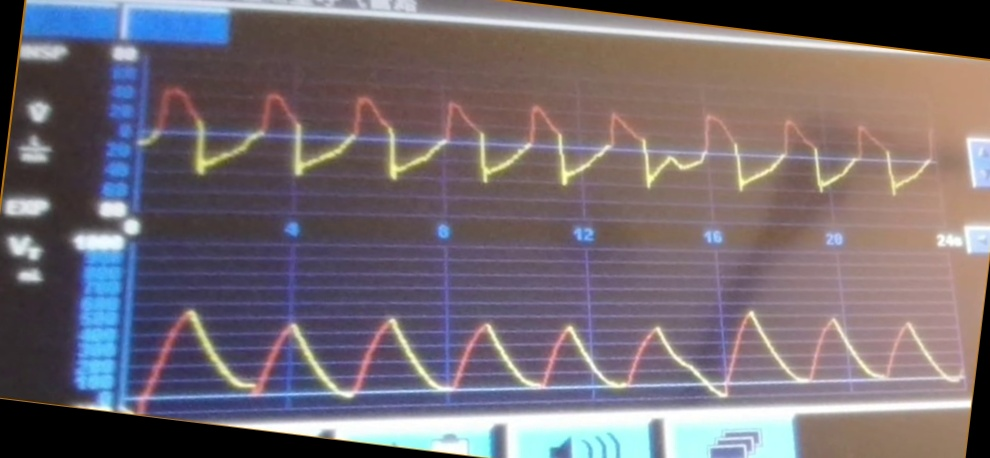Premature_cycling Flow: (148, 79, 933, 201)
Premature_cycling Volume: (135, 300, 962, 397)
